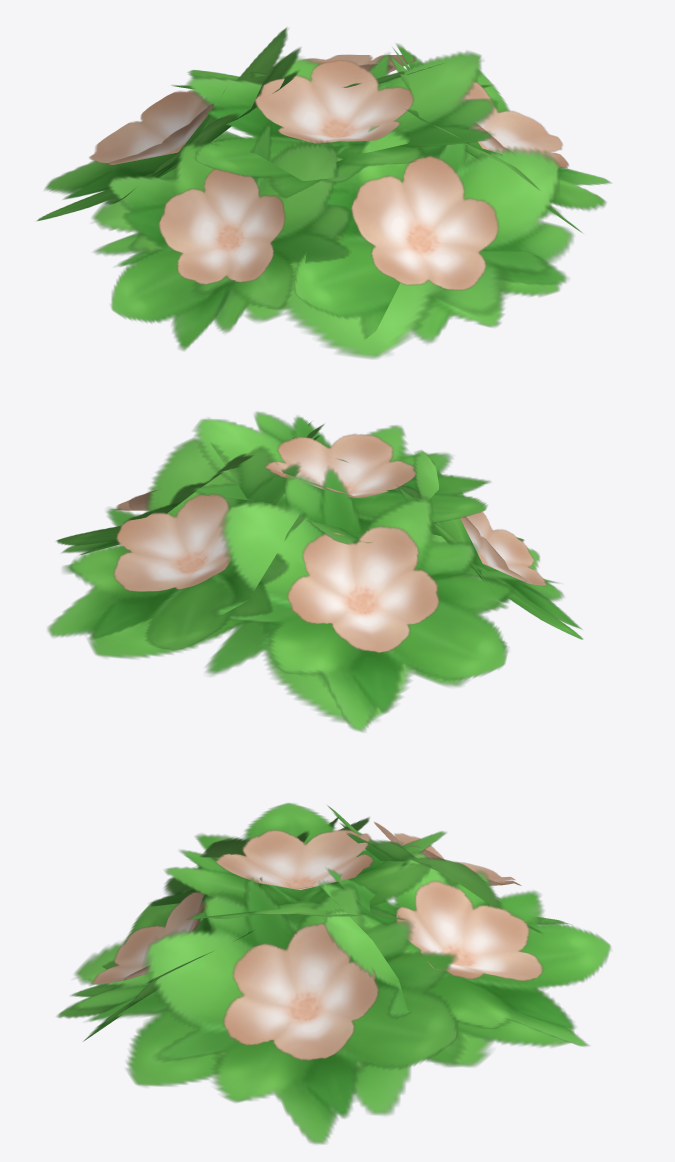
The model's file is flower.glb.
3 renders of one model, top to bottom at view 1: azimuth 30°, elevation 25°; view 2: azimuth 150°, elevation 25°; view 3: azimuth 270°, elevation 25°, orthographic. The views are drawn at different scales.
Parts seen in each view (by area): view 1: Plane141, Plane136, Plane147, Plane140, Plane151, Plane142, Plane148, Plane145, Plane146, Plane149, Plane152, Plane150 (+2 smaller); view 2: Plane145, Plane143, Plane146, Plane147, Plane144, Plane148, Plane152, Plane141, Plane151, Plane142, Plane149; view 3: Plane149, Plane143, Plane150, Plane147, Plane144, Plane152, Plane151, Plane148, Plane140, Plane145, Plane136, Plane141 (+1 smaller).
Part boxes in pixels (box(x1,y1,x2,y2)): Plane141: box(107, 122, 351, 350); Plane136: box(287, 125, 573, 343); Plane147: box(186, 51, 497, 198); Plane140: box(351, 155, 499, 290); Plane151: box(129, 140, 559, 358); Plane142: box(158, 169, 285, 284); Plane148: box(254, 60, 414, 143); Plane145: box(37, 27, 300, 220); Plane146: box(89, 90, 224, 165); Plane149: box(389, 43, 611, 232); Plane152: box(92, 131, 559, 322); Plane150: box(460, 81, 568, 168); Plane145: box(213, 467, 514, 732); Plane143: box(47, 438, 305, 649); Plane146: box(287, 525, 439, 652); Plane147: box(191, 411, 490, 544); Plane144: box(113, 493, 231, 591); Plane148: box(264, 434, 416, 497); Plane152: box(205, 602, 508, 722); Plane141: box(398, 450, 582, 639); Plane151: box(63, 534, 557, 691); Plane142: box(460, 512, 547, 586); Plane149: box(56, 422, 324, 555); Plane149: box(143, 877, 457, 1144); Plane143: box(318, 851, 610, 1046); Plane150: box(222, 922, 378, 1060); Plane147: box(164, 803, 446, 919); Plane144: box(395, 880, 543, 981); Plane152: box(126, 1008, 494, 1115); Plane151: box(67, 914, 574, 1073); Plane148: box(215, 829, 373, 889); Plane140: box(91, 892, 206, 984); Plane145: box(327, 805, 570, 933); Plane136: box(57, 877, 262, 1041); Plane141: box(149, 817, 369, 907).
Bounding box in the file's own units: 0.3745 × 0.1414 × 0.3792.
Materials: 1 (1 with a texture image).
